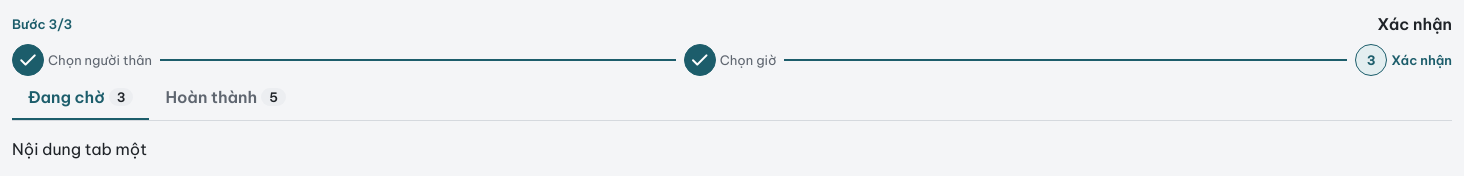
Test case: HomeCare navigation, overlays, states, and feedback units (US-15-012) › switches tab panels in HcTabs and clamps bounds in HcStepper
Expected: the text "Bước 3/3" is shown, [12, 15, 72, 33]
Expected: the text "Nội dung tab một" is shown, [12, 139, 147, 159]
Click the tab "Hoàn thành 5": (226, 98) [149, 76, 302, 120]
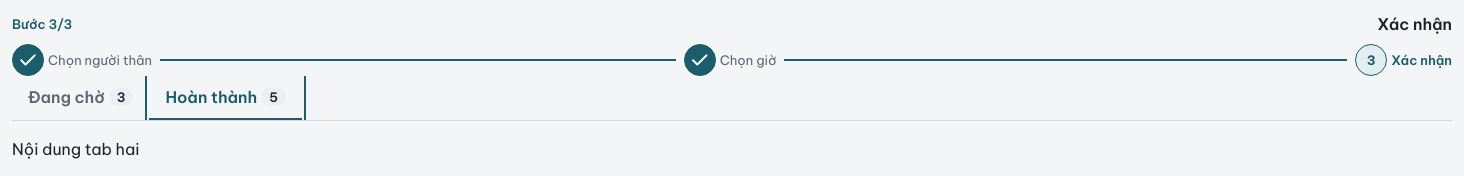
Result: the text "Nội dung tab hai" is shown at [12, 139, 139, 159]
